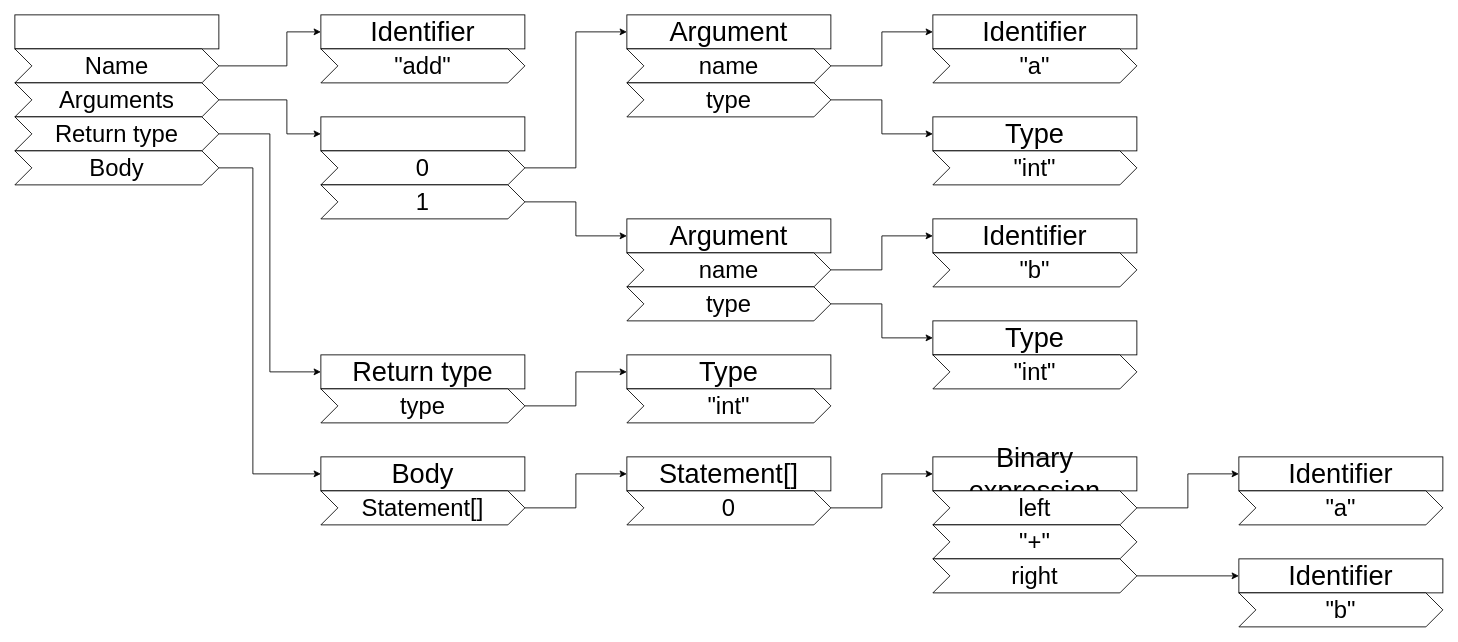
Image size: 1458x642. Some labels were removed from this diagram. Each missing label, with the centre of its shape:
"Arguments[]" belongs at point (422, 133).
"Function" belongs at point (116, 31).
